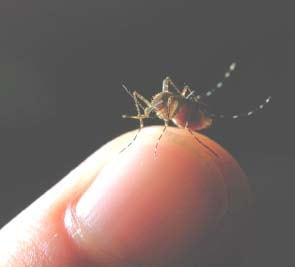dengue_mosquito: (121, 76, 251, 157)
